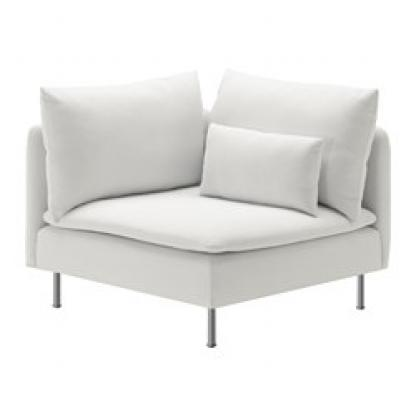Sofa: (15, 45, 399, 358)
